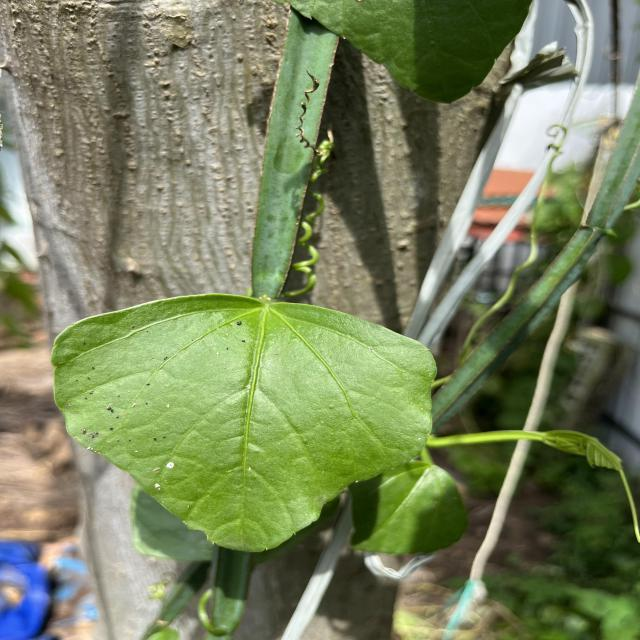Cissus quadrangularis: (47, 290, 441, 556)
